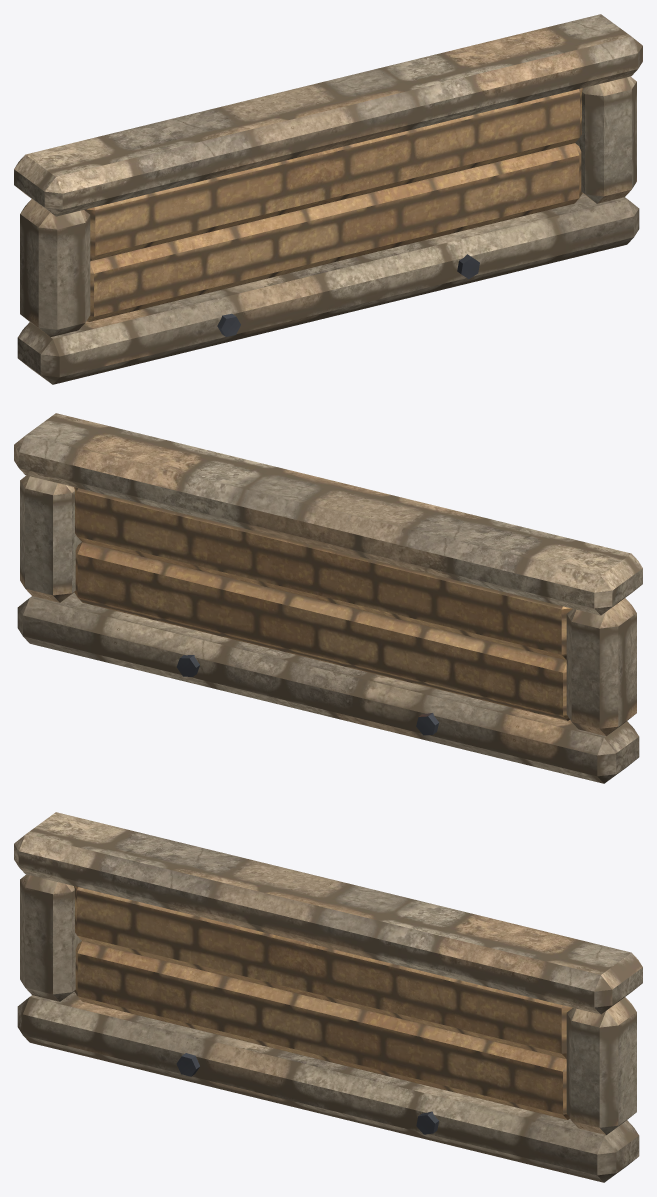
Rendered from alcak_duvar.glb.
3 renders of one model, top to bottom at view 1: azimuth 30°, elevation 25°; view 2: azimuth 150°, elevation 25°; view 3: azimuth 330°, elevation 25°, orthographic.
Visible parts, largest first — view 1: alcak_duvar; view 2: alcak_duvar; view 3: alcak_duvar.
Part boxes in pixels (x1,y1,x2,y2): alcak_duvar: (14, 14, 642, 384); alcak_duvar: (14, 413, 642, 783); alcak_duvar: (14, 812, 642, 1182).
Bounding box in the file's own units: 3 × 1.01 × 0.39.
1 material, 1 textured.
